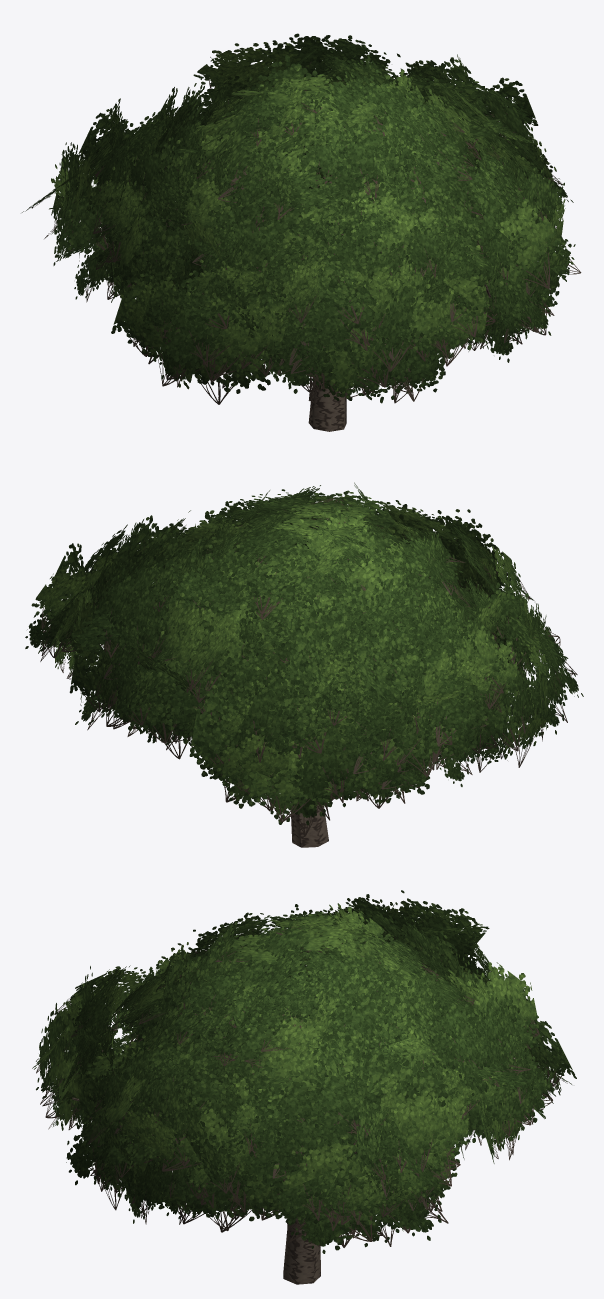
The model's file is tree_oak.glb.
3 views of the same model, one above another, from view 1: azimuth 30°, elevation 25°; view 2: azimuth 150°, elevation 25°; view 3: azimuth 270°, elevation 25° (orthographic). The views are drawn at different scales.
Parts seen in each view (by area): view 1: tree_oak; view 2: tree_oak; view 3: tree_oak.
Boxes of the visible parts, x1=… form: tree_oak: x1=22, y1=33, x2=581, y2=431; tree_oak: x1=25, y1=482, x2=583, y2=847; tree_oak: x1=32, y1=890, x2=576, y2=1284.
Size of the model in its own units: 14.12 by 9.82 by 13.99.
1 material, 1 textured.
